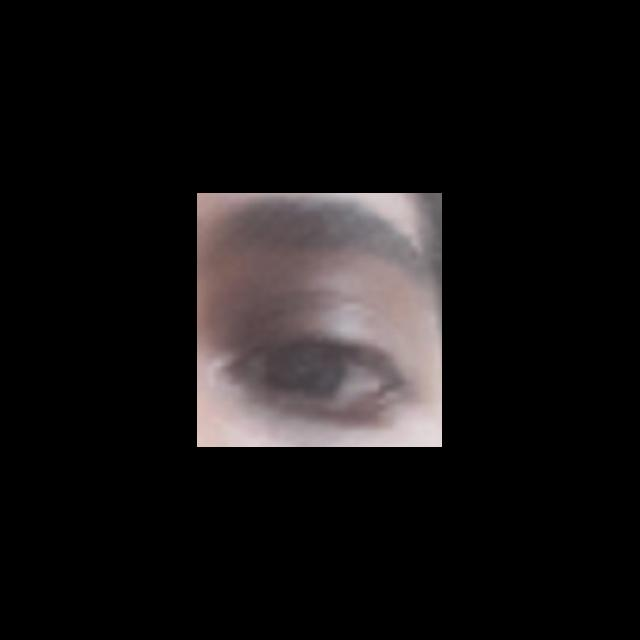eye: (259, 351, 389, 401)
iris: (288, 355, 343, 398)
